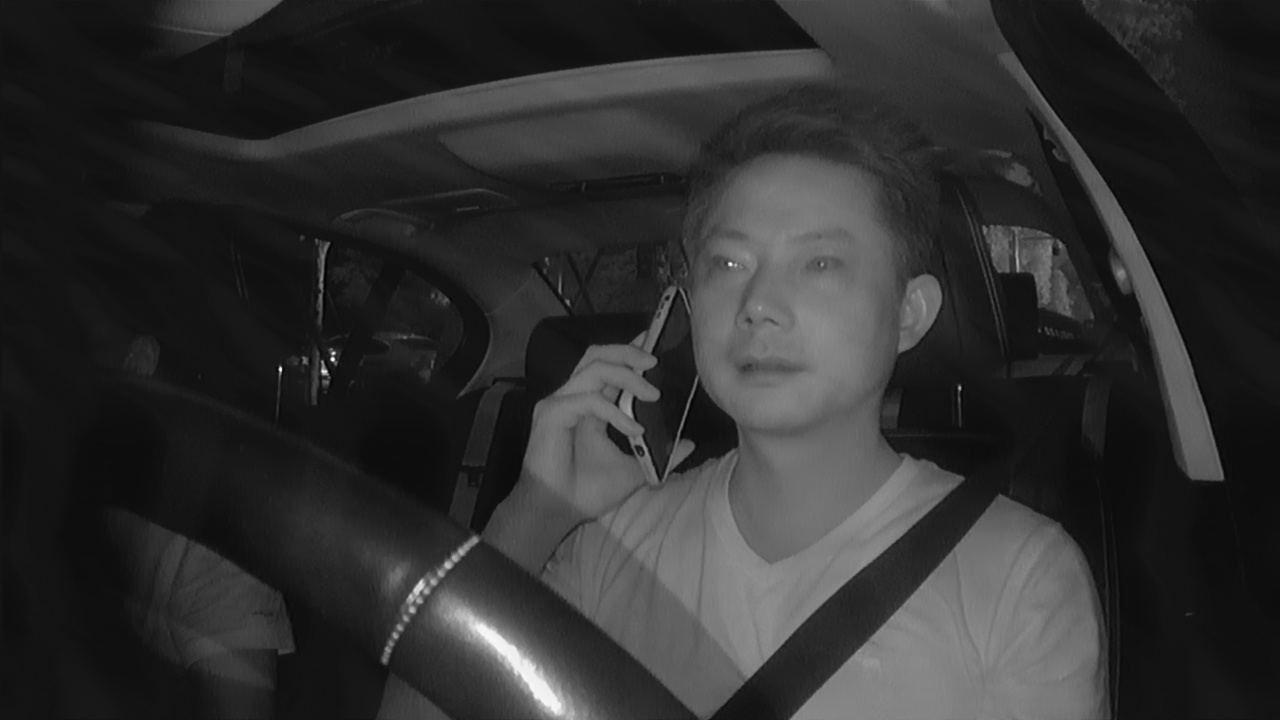hand: (523, 327, 684, 529)
